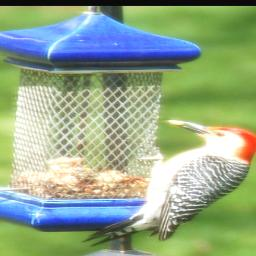Woodpecker: (72, 115, 256, 252)
